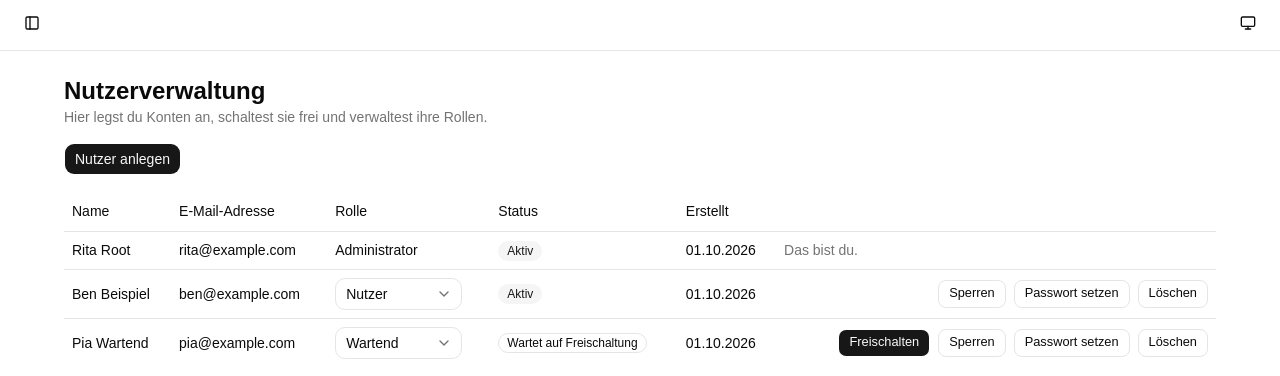
AdminUsersPage: change an account › sends one request on a double click and locks all row actions meanwhile
This screenshot has width=1280, height=376.
Check: the heading "Nutzerverwaltung" is shown, box [64,77,265,104]
Double-click the button with aria-label "Pia Wartend freischalten" at (884, 342), box [838,328,930,356]
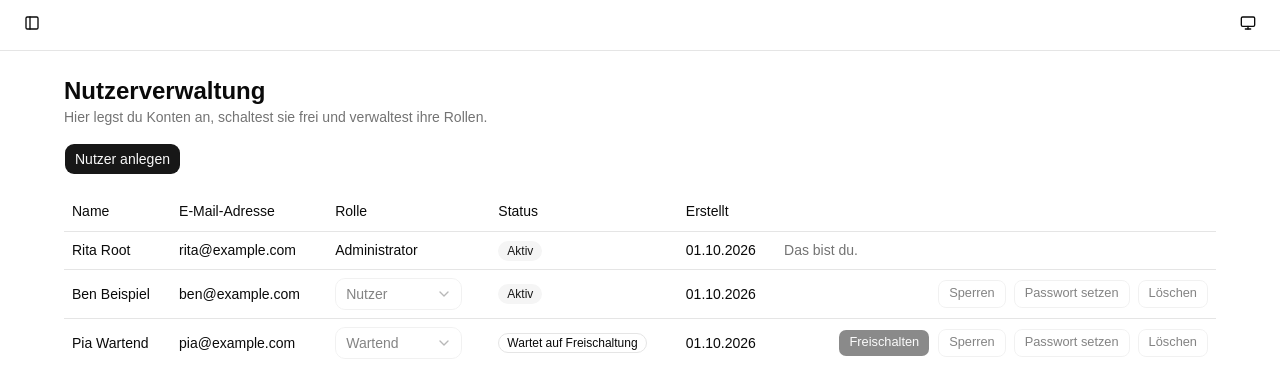
Check: the button with aria-label "Ben Beispiel sperren" is disabled, box [938,280,1006,308]
Check: the dropdown named "Rolle von Ben Beispiel" is disabled, box [335,278,462,310]
